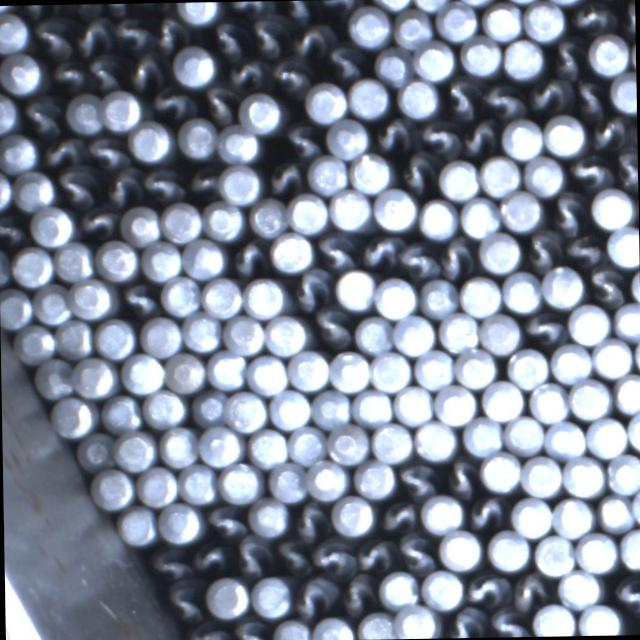tool: (204, 574, 248, 618), (372, 187, 417, 230), (50, 396, 96, 438), (566, 304, 611, 346), (182, 238, 226, 280), (172, 44, 216, 86), (550, 495, 594, 537), (219, 462, 263, 504), (438, 528, 482, 570), (328, 188, 372, 230), (158, 501, 202, 543), (486, 529, 530, 571), (478, 231, 522, 273), (348, 4, 392, 46), (590, 186, 634, 228), (392, 314, 437, 355), (412, 420, 457, 461), (9, 246, 54, 287), (95, 240, 138, 282), (509, 495, 552, 537), (540, 264, 583, 306), (479, 311, 522, 353), (478, 154, 521, 196), (433, 384, 476, 426), (305, 80, 348, 122), (374, 276, 417, 318), (459, 194, 502, 236), (68, 276, 111, 318), (501, 116, 544, 158), (218, 162, 261, 204), (0, 52, 43, 94), (264, 313, 308, 354), (74, 357, 118, 398), (198, 426, 242, 467), (29, 203, 73, 244), (114, 431, 158, 472), (224, 390, 266, 432), (460, 275, 502, 317), (288, 349, 330, 391), (420, 568, 462, 610), (244, 277, 286, 319), (328, 350, 370, 392), (140, 316, 182, 358), (544, 113, 586, 155), (346, 76, 388, 118), (520, 455, 562, 497), (160, 200, 202, 242), (284, 192, 326, 234), (120, 204, 162, 246), (588, 33, 630, 75), (94, 316, 136, 358), (241, 90, 283, 132), (92, 468, 134, 510), (334, 266, 375, 309), (548, 341, 591, 382), (13, 323, 56, 364), (129, 121, 172, 162), (304, 460, 348, 500), (268, 232, 312, 272), (325, 118, 369, 158), (330, 496, 374, 536), (268, 388, 310, 429), (202, 275, 244, 316), (532, 534, 573, 576), (584, 417, 626, 458), (436, 161, 478, 202), (160, 274, 202, 315), (502, 38, 544, 79), (570, 378, 612, 419), (370, 422, 412, 463), (412, 38, 454, 79), (308, 153, 350, 194), (563, 456, 606, 496), (120, 352, 163, 392), (163, 352, 206, 392), (574, 532, 617, 572), (368, 350, 411, 390), (349, 152, 392, 192), (223, 314, 266, 354), (178, 117, 218, 160), (100, 392, 143, 432), (558, 569, 602, 608), (439, 311, 480, 352), (479, 450, 520, 491), (102, 89, 143, 130), (524, 0, 566, 40), (484, 379, 526, 419), (461, 36, 503, 76), (502, 269, 542, 311), (462, 416, 504, 456), (506, 346, 548, 386), (160, 426, 200, 468), (454, 348, 496, 388), (252, 575, 292, 617), (500, 190, 542, 230), (419, 196, 459, 238), (482, 1, 524, 41), (137, 466, 179, 506), (54, 241, 96, 281), (326, 424, 368, 464), (352, 458, 394, 498), (13, 168, 55, 208), (421, 494, 464, 533), (248, 354, 288, 395), (528, 381, 568, 422), (505, 414, 546, 454), (412, 350, 453, 390), (176, 463, 216, 504), (202, 199, 243, 239), (310, 389, 350, 430), (54, 317, 94, 358), (592, 336, 633, 376), (524, 153, 564, 194), (142, 241, 183, 281), (118, 505, 158, 546), (34, 357, 74, 398), (545, 420, 587, 459), (143, 388, 185, 427), (435, 0, 477, 39), (64, 92, 103, 134), (394, 604, 440, 639), (247, 426, 287, 466), (392, 384, 432, 424), (286, 426, 326, 466), (32, 284, 72, 324), (206, 348, 246, 388), (248, 498, 288, 538), (418, 278, 458, 318), (392, 7, 433, 46), (268, 463, 308, 502), (220, 124, 260, 163), (249, 198, 288, 238), (182, 314, 222, 352), (398, 80, 438, 118), (378, 570, 418, 608), (579, 602, 623, 636), (354, 313, 392, 352), (352, 387, 392, 424), (0, 132, 37, 171), (606, 451, 640, 493), (532, 602, 574, 636), (77, 433, 113, 472), (372, 47, 409, 84), (596, 494, 632, 532), (606, 224, 638, 266), (0, 287, 31, 329), (192, 391, 226, 427), (355, 610, 394, 640), (0, 13, 29, 53), (311, 615, 355, 640), (614, 371, 640, 411), (610, 72, 636, 112), (613, 300, 640, 338), (175, 1, 218, 22), (619, 528, 640, 569), (273, 617, 310, 640), (0, 92, 18, 133), (625, 410, 640, 451), (0, 167, 13, 208), (630, 264, 640, 307), (411, 0, 451, 10), (0, 246, 10, 286), (631, 486, 640, 527), (374, 0, 413, 9), (633, 335, 640, 377), (452, 0, 498, 4), (543, 0, 588, 3), (503, 0, 542, 2)
tool_b: (292, 574, 338, 618), (28, 15, 72, 60), (246, 13, 288, 58), (544, 190, 586, 234), (290, 266, 332, 310), (311, 306, 353, 350), (54, 165, 98, 207), (162, 582, 205, 624), (310, 536, 355, 576), (584, 264, 626, 306), (232, 534, 273, 577), (19, 94, 63, 134), (438, 76, 478, 120), (146, 544, 192, 582), (509, 570, 552, 610), (480, 80, 525, 118), (399, 236, 441, 276), (125, 50, 167, 90), (396, 152, 435, 195), (290, 20, 334, 58), (147, 85, 192, 122), (396, 532, 437, 572), (585, 114, 627, 153), (315, 230, 358, 268), (416, 118, 459, 156), (82, 132, 126, 169), (463, 570, 508, 606), (102, 166, 142, 206), (289, 500, 328, 541), (522, 228, 560, 270), (74, 15, 112, 57), (396, 460, 438, 498), (140, 164, 183, 201), (202, 504, 246, 540), (461, 116, 500, 156), (526, 75, 566, 114), (361, 231, 402, 269), (464, 492, 505, 530), (438, 238, 476, 279), (110, 14, 151, 52), (486, 604, 531, 638), (547, 38, 585, 78), (339, 574, 377, 614), (264, 158, 304, 196), (268, 55, 308, 93), (520, 311, 562, 347), (376, 498, 418, 534), (373, 116, 415, 152), (44, 56, 86, 92), (76, 203, 119, 238), (569, 0, 613, 34), (560, 232, 604, 266), (570, 78, 608, 117), (354, 536, 394, 573), (200, 84, 237, 124), (223, 56, 267, 89), (325, 42, 363, 80), (228, 238, 266, 276), (272, 536, 310, 574), (282, 122, 322, 158), (42, 132, 82, 168), (442, 606, 487, 638), (568, 154, 610, 188), (86, 52, 122, 90), (118, 280, 158, 314), (444, 459, 478, 498), (151, 14, 186, 51), (191, 541, 229, 575), (210, 21, 244, 58), (184, 164, 220, 198), (611, 572, 640, 614), (614, 146, 638, 188), (180, 621, 232, 640), (0, 211, 27, 245), (233, 617, 272, 640), (272, 0, 314, 19), (222, 1, 270, 16), (615, 0, 635, 32), (317, 0, 361, 12)
